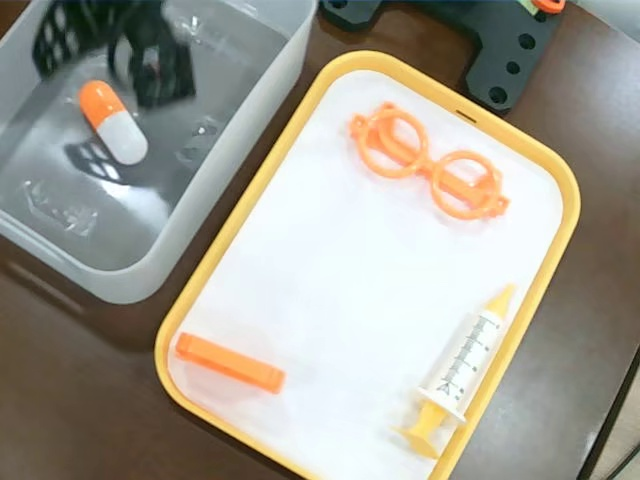pill: (79, 77, 150, 166)
syringe: (389, 279, 519, 458)
